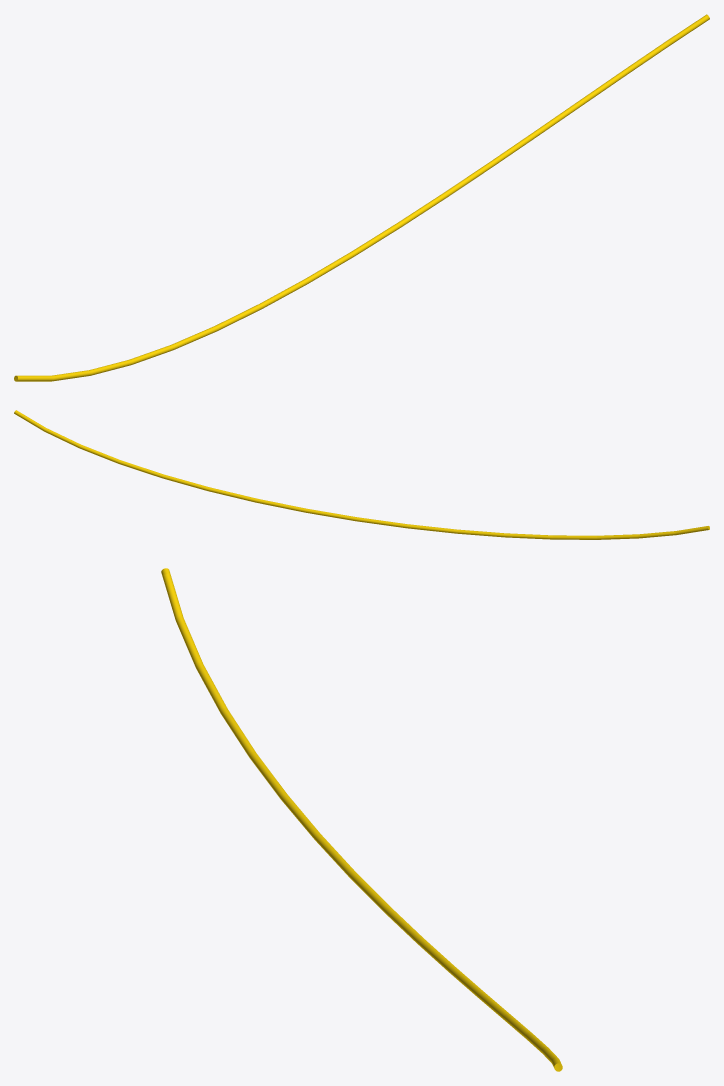
File: Event_421278790_track_19.fbx
3 renders of one model, top to bottom at view 1: azimuth 30°, elevation 25°; view 2: azimuth 150°, elevation 25°; view 3: azimuth 270°, elevation 25°, orthographic. The views are drawn at different scales.
Visible parts, largest first — view 1: Model; view 2: Model; view 3: Model.
Part boxes in pixels (x1,y1,x2,y2): Model: (14, 14, 709, 381); Model: (14, 410, 709, 539); Model: (161, 568, 562, 1071).
Size of the model in its own units: 6.51 by 0.7759 by 1.89.
